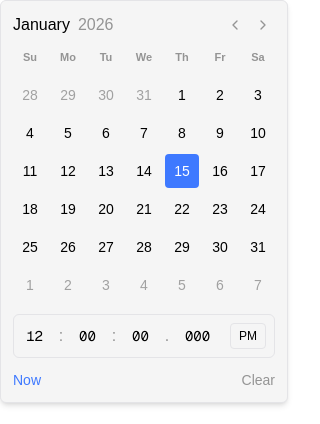
Scenario: components/common/datetime-picker/calendar › navigates to the previous month, wrapping the year backwards
What coordinates should you click on to do the following:
click the button named "previous month"
I would click on:
 (235, 25)
Its box is [223,13,247,37].
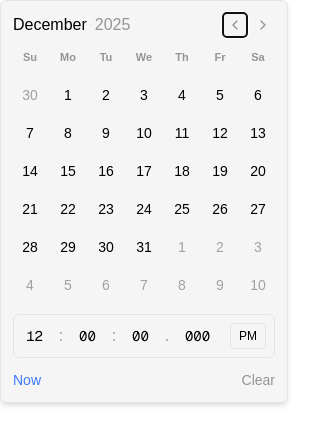
Result: the text "December" is shown at [13,13,87,37]
Result: the text "2025" is shown at [95,13,130,37]
